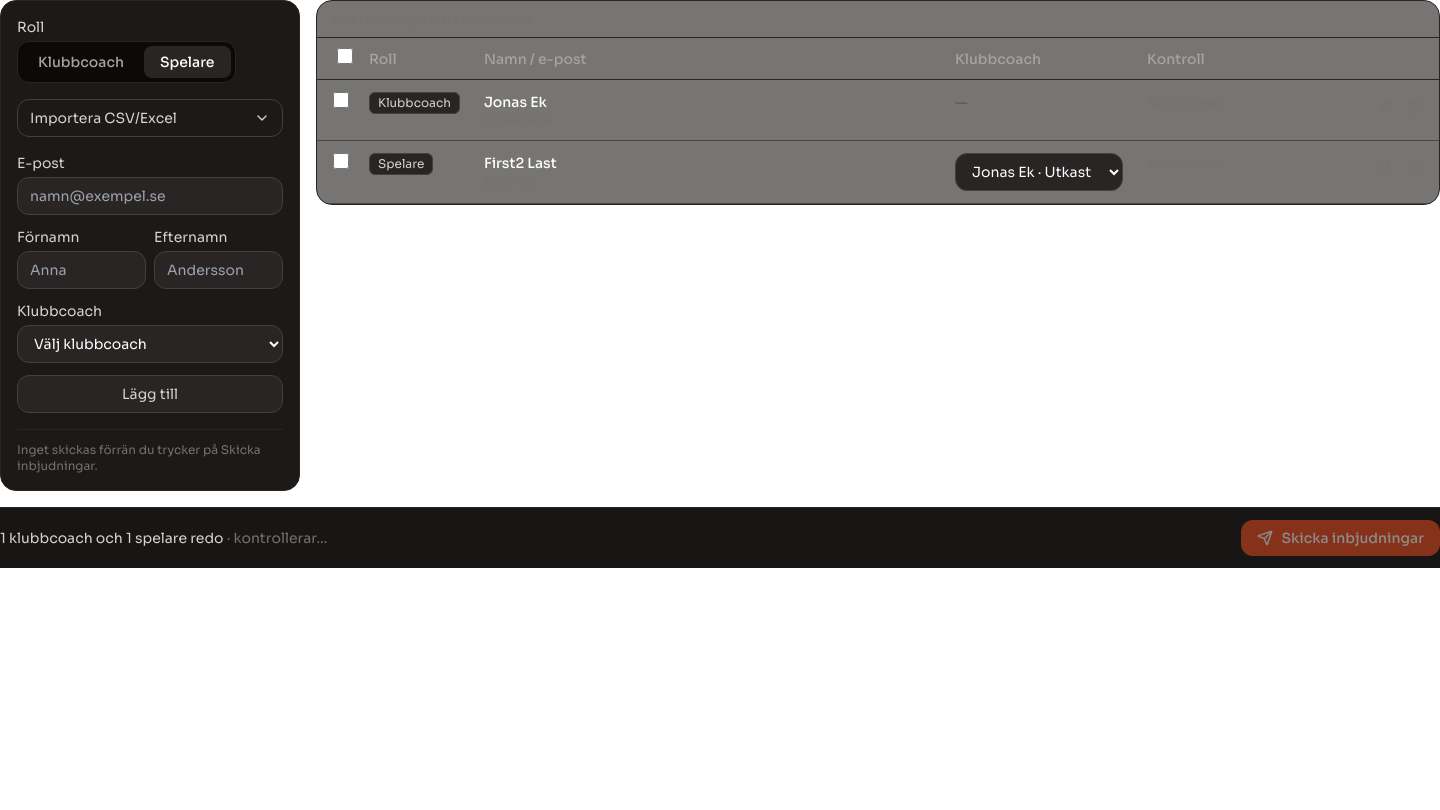
Test: ClubDraftsTab › offers to include the draft coach of selected players
What coordinates should you click on to do the following:
click the checkbox named "Markera p2@x.se"
I would click on:
 (341, 161)
Its box is x1=333 y1=153 x2=349 y2=169.
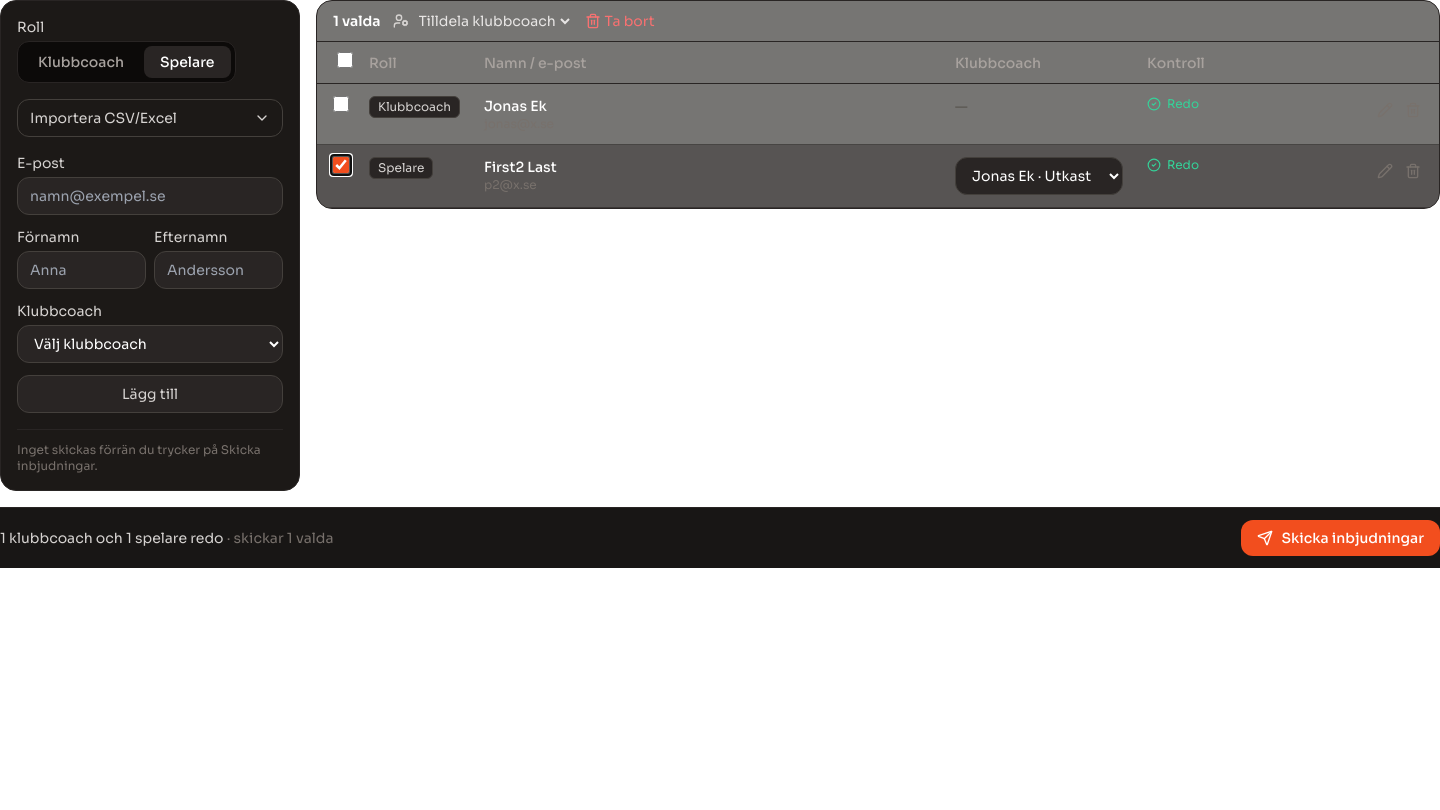
Check: the button "Skicka inbjudningar" is enabled
What coordinates should you click on to do the following:
click the button "Skicka inbjudningar"
I would click on:
 (1341, 538)
Its box is x1=1242 y1=520 x2=1439 y2=556.
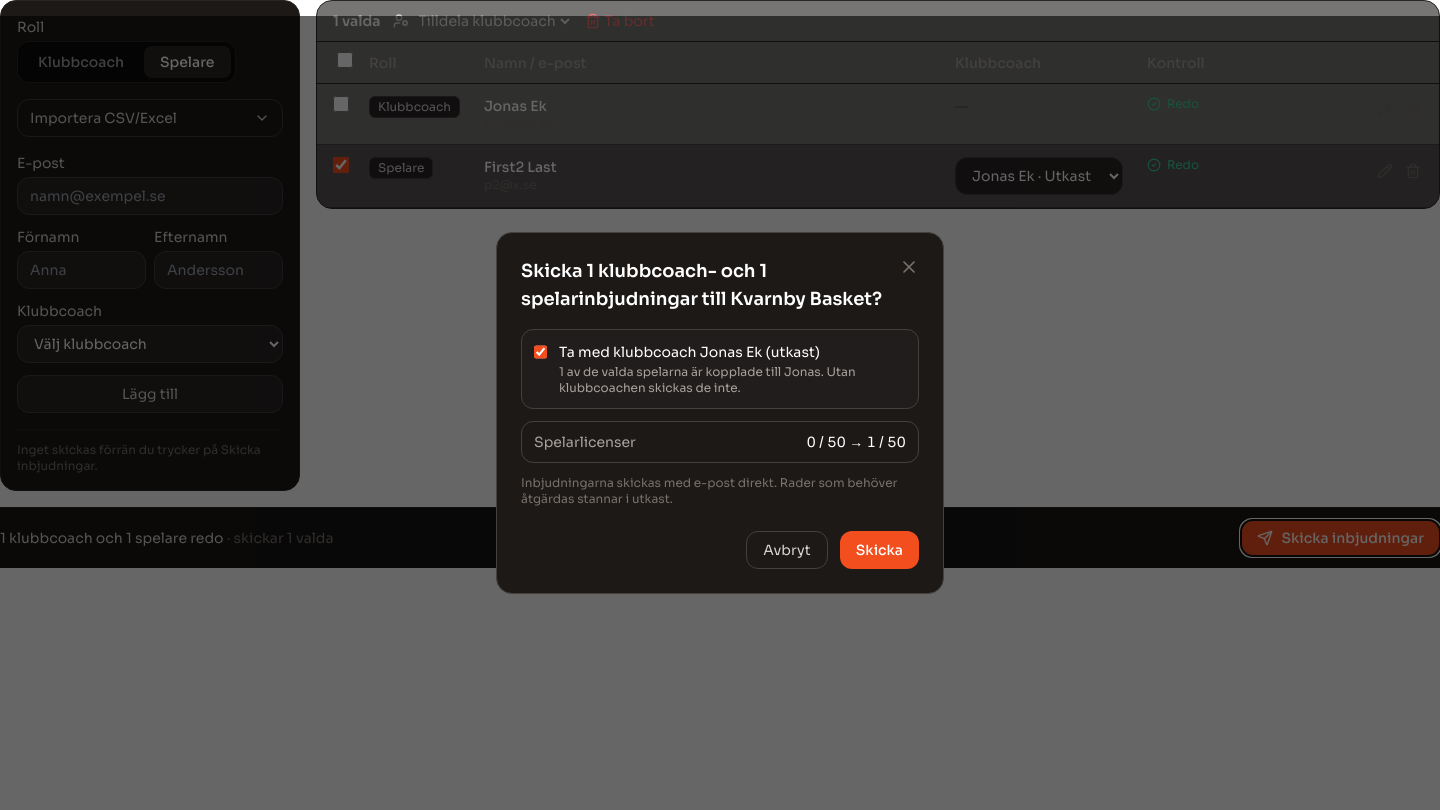
Check: the checkbox labelled "Ta med klubbcoach Jonas Ek (utkast)" is checked
Check: the heading "Skicka 1 klubbcoach- och 1 spelarinbjudningar till Kvarnby Basket?" is shown, box x1=521 y1=257 x2=883 y2=313
# Without the coach the player can't be sent either.
What coordinates should you click on to do the following:
click the checkbox labelled "Ta med klubbcoach Jonas Ek (utkast)"
I would click on:
 (540, 352)
Its box is x1=534 y1=344 x2=547 y2=360.
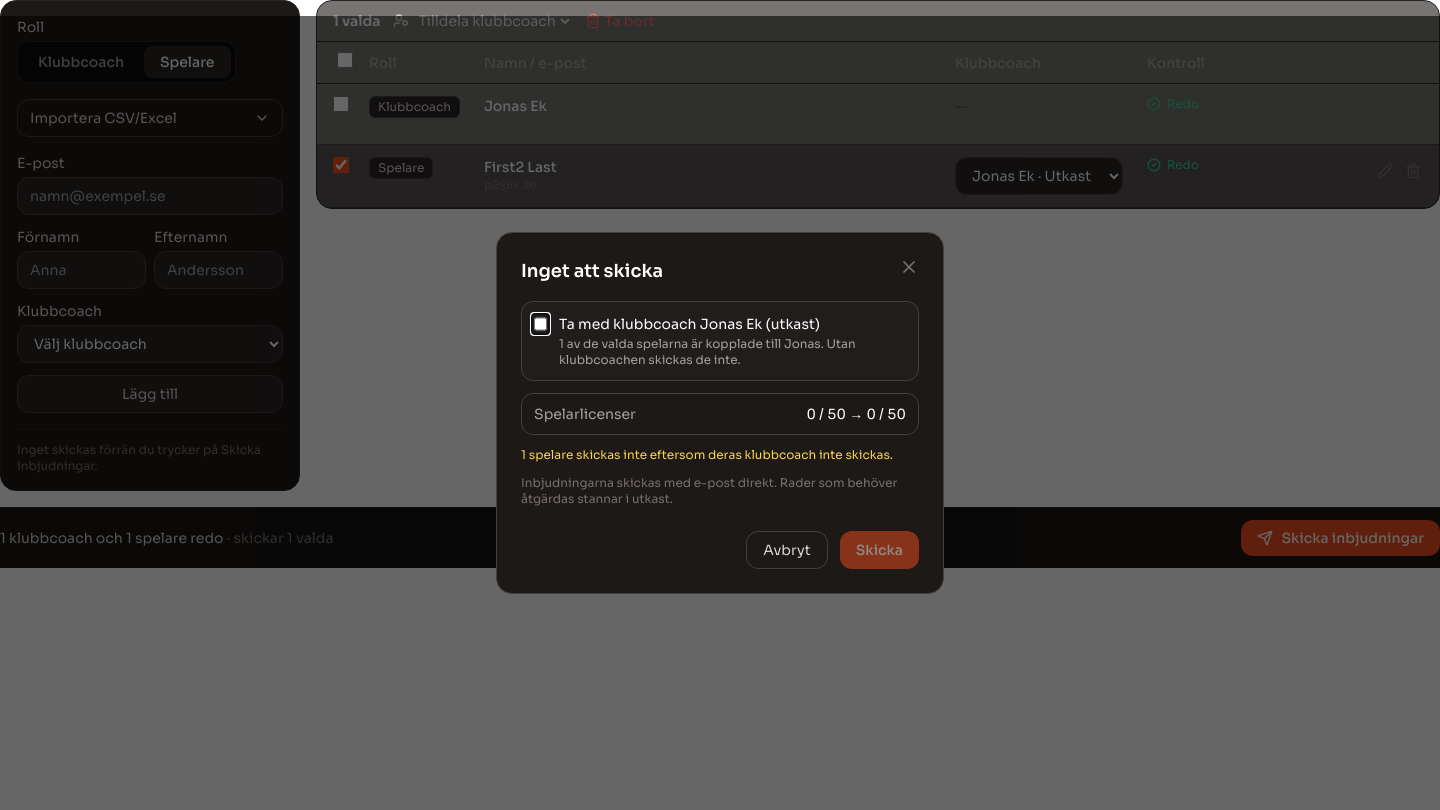
Check: the heading "Inget att skicka" is shown, box x1=521 y1=257 x2=663 y2=285
Check: the button "Skicka" is disabled, box x1=840 y1=531 x2=919 y2=569
